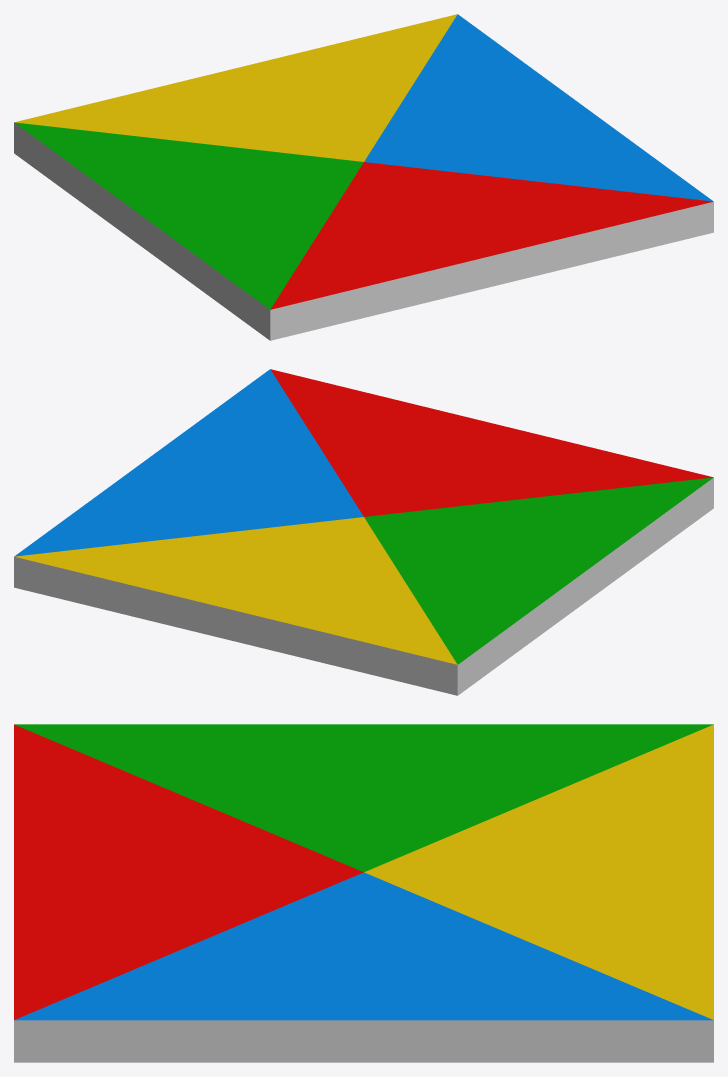
Rendered from SM_Ludo_Center.glb.
3 renders of one model, top to bottom at view 1: azimuth 30°, elevation 25°; view 2: azimuth 150°, elevation 25°; view 3: azimuth 270°, elevation 25°, orthographic. The views are drawn at different scales.
Visible parts, largest first — view 1: SM_Ludo_Center; view 2: SM_Ludo_Center; view 3: SM_Ludo_Center.
Part boxes in pixels (left/top/right/bottom): SM_Ludo_Center: left=14, top=14, right=713, bottom=340; SM_Ludo_Center: left=14, top=369, right=713, bottom=695; SM_Ludo_Center: left=14, top=724, right=713, bottom=1062.
Bounding box in the file's own units: 0.6 × 0.04 × 0.6.
